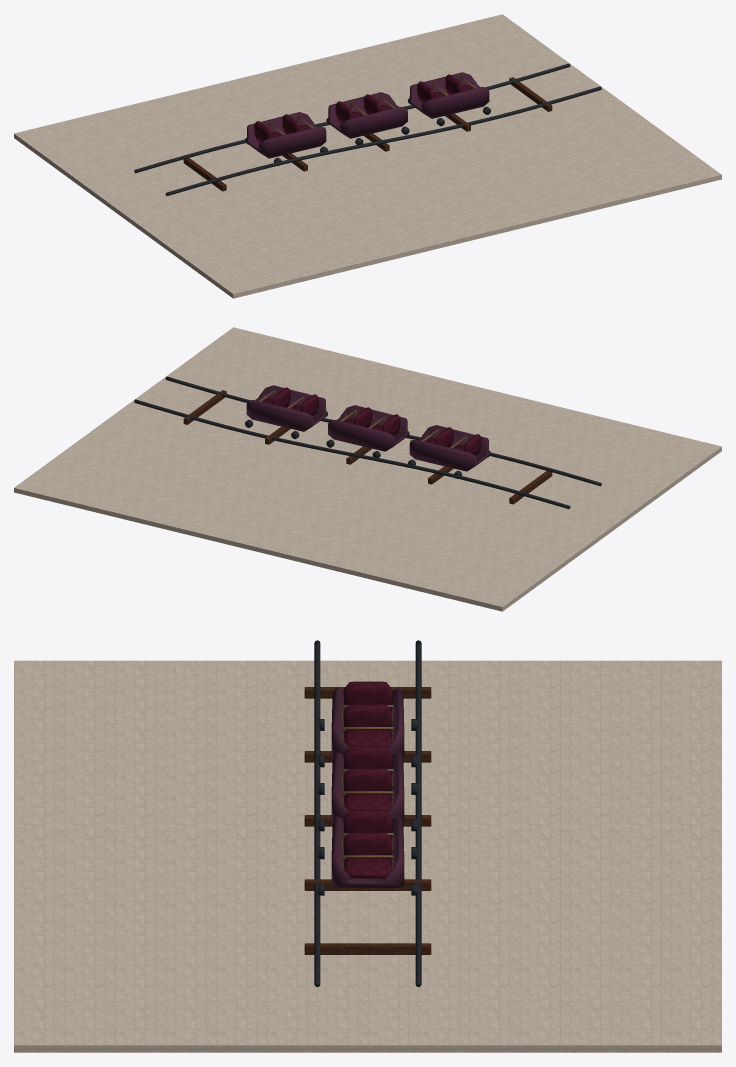
The model's file is finish_coaster_platform.glb.
The picture shows the model from 3 angles, top to bottom: view 1: azimuth 30°, elevation 25°; view 2: azimuth 150°, elevation 25°; view 3: azimuth 270°, elevation 25°; orthographic projection. The views are drawn at different scales.
Parts seen in each view (by area): view 1: Rebuilt_finish_coaster_platform; view 2: Rebuilt_finish_coaster_platform; view 3: Rebuilt_finish_coaster_platform.
Boxes of the visible parts, left/top/right/bottom form: Rebuilt_finish_coaster_platform: left=14, top=14, right=721, bottom=298; Rebuilt_finish_coaster_platform: left=14, top=327, right=721, bottom=611; Rebuilt_finish_coaster_platform: left=14, top=640, right=721, bottom=1052.
Size of the model in its own units: 18 by 2.07 by 14.
Materials: 6 (6 with a texture image).
